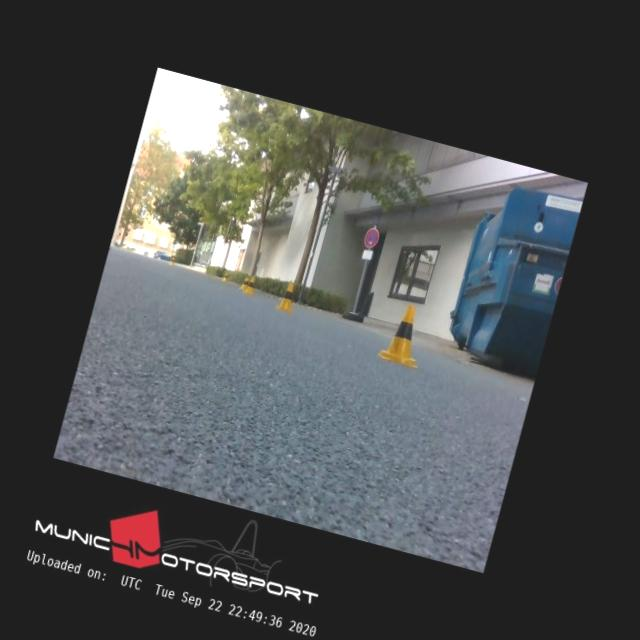yellow_cone: (377, 300, 432, 368), (276, 280, 298, 310), (243, 274, 257, 294), (238, 274, 250, 292), (220, 271, 230, 282), (168, 256, 175, 266)
